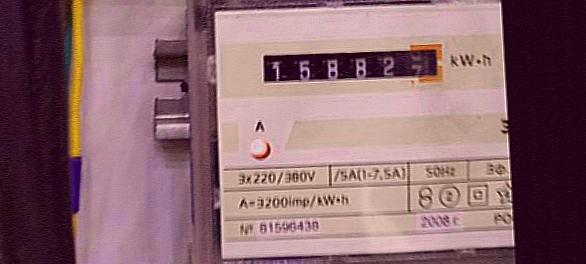1: (269, 59, 284, 82)
2: (380, 55, 397, 79)
5: (297, 57, 312, 83)
7: (410, 60, 423, 78)
8: (353, 56, 368, 81), (325, 58, 339, 81)
screen: (253, 36, 453, 101)
